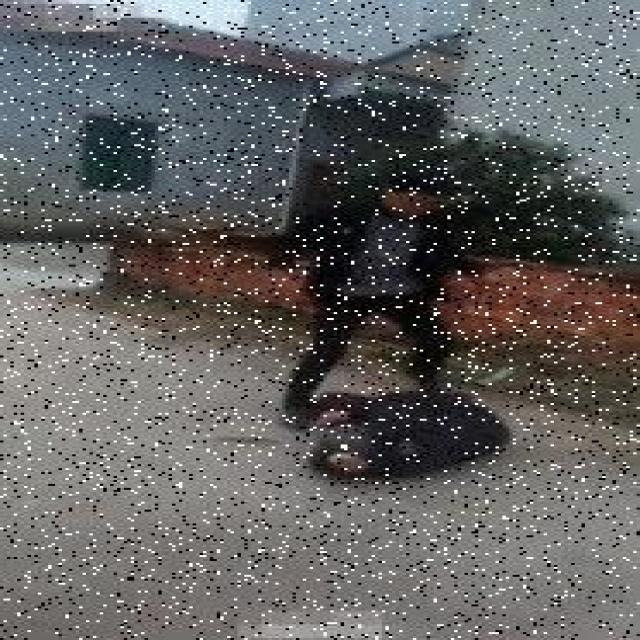fall: (314, 383, 526, 488)
